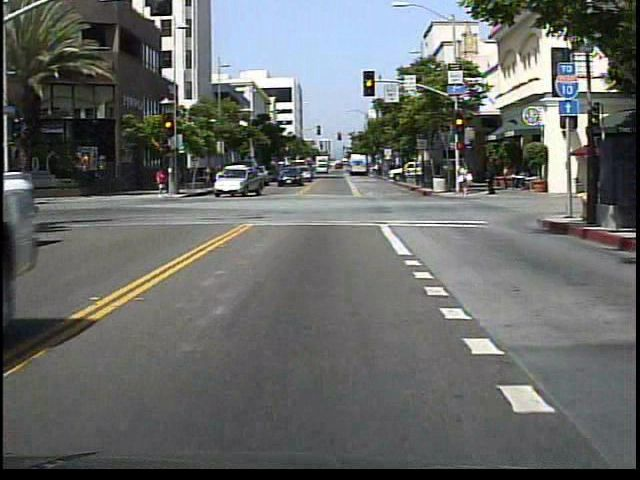person: (454, 159, 473, 198), (483, 160, 497, 198), (156, 166, 171, 197)
